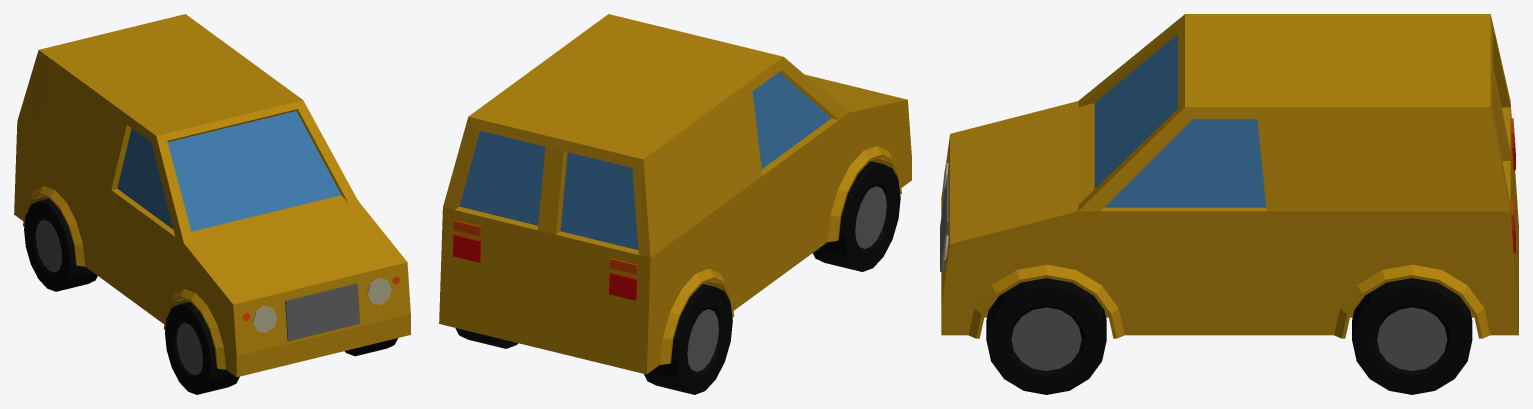
The model's file is car-microcargo-citrus.obj.
3 views of the same model, side by side, from view 1: azimuth 30°, elevation 25°; view 2: azimuth 150°, elevation 25°; view 3: azimuth 270°, elevation 25° (orthographic). The views are drawn at different scales.
Visible parts, largest first — view 1: car-microcargo-citrus_Cube.589_carmaterial_citrus, car-microcargo-citrus_Cube.589_windows, car-microcargo-citrus_Cube.589_tires, car-microcargo-citrus_Cube.589_metal, car-microcargo-citrus_Cube.589_lights; view 2: car-microcargo-citrus_Cube.589_carmaterial_citrus, car-microcargo-citrus_Cube.589_windows, car-microcargo-citrus_Cube.589_tires, car-microcargo-citrus_Cube.589_metal, car-microcargo-citrus_Cube.589_lights.red, car-microcargo-citrus_Cube.589_lights.orange; view 3: car-microcargo-citrus_Cube.589_carmaterial_citrus, car-microcargo-citrus_Cube.589_windows, car-microcargo-citrus_Cube.589_tires, car-microcargo-citrus_Cube.589_metal.
Boxes of the visible parts, x1,y1,x2,y2 form: car-microcargo-citrus_Cube.589_carmaterial_citrus: (14, 14, 410, 377); car-microcargo-citrus_Cube.589_windows: (117, 111, 341, 231); car-microcargo-citrus_Cube.589_tires: (24, 199, 397, 394); car-microcargo-citrus_Cube.589_metal: (35, 219, 360, 375); car-microcargo-citrus_Cube.589_lights: (252, 278, 391, 332); car-microcargo-citrus_Cube.589_carmaterial_citrus: (439, 14, 911, 374); car-microcargo-citrus_Cube.589_windows: (459, 72, 831, 249); car-microcargo-citrus_Cube.589_tires: (455, 161, 900, 394); car-microcargo-citrus_Cube.589_metal: (687, 186, 886, 371); car-microcargo-citrus_Cube.589_lights.red: (452, 234, 637, 300); car-microcargo-citrus_Cube.589_lights.orange: (453, 220, 637, 274); car-microcargo-citrus_Cube.589_carmaterial_citrus: (941, 14, 1518, 338); car-microcargo-citrus_Cube.589_windows: (1094, 34, 1266, 207); car-microcargo-citrus_Cube.589_tires: (986, 278, 1472, 394); car-microcargo-citrus_Cube.589_metal: (940, 177, 1447, 370).
Size of the model in its own units: 0.8967 by 0.9513 by 1.82.
